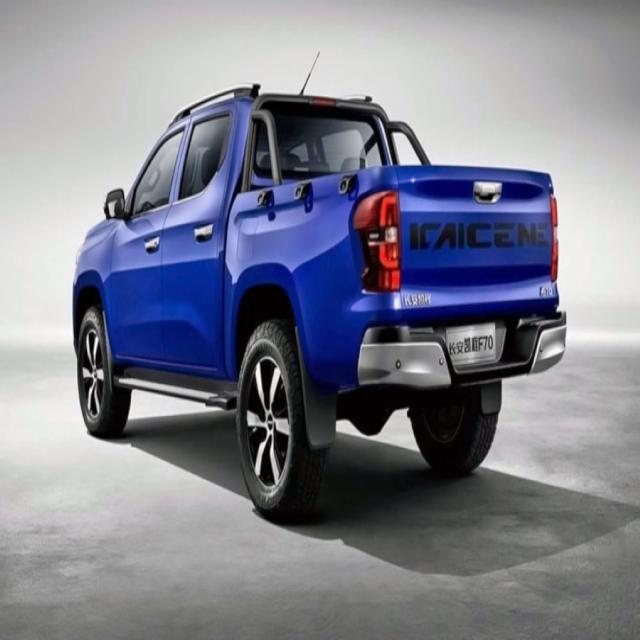Pickup Trucks: (73, 84, 567, 525)
